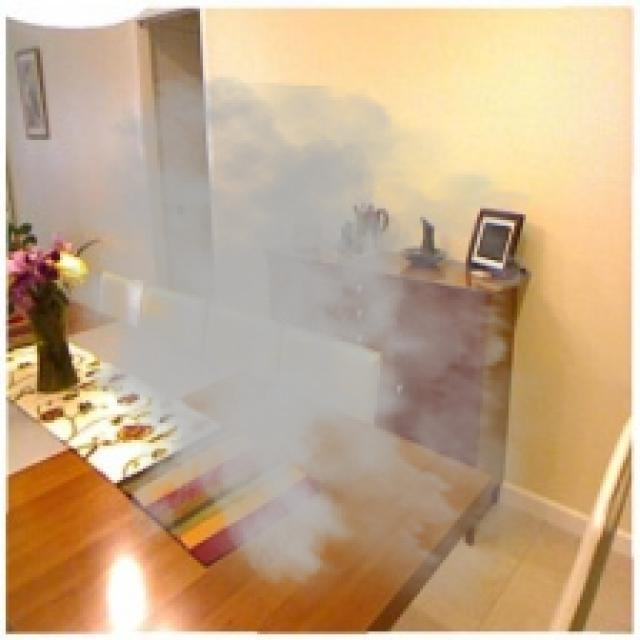Smoke: (37, 72, 597, 638)
